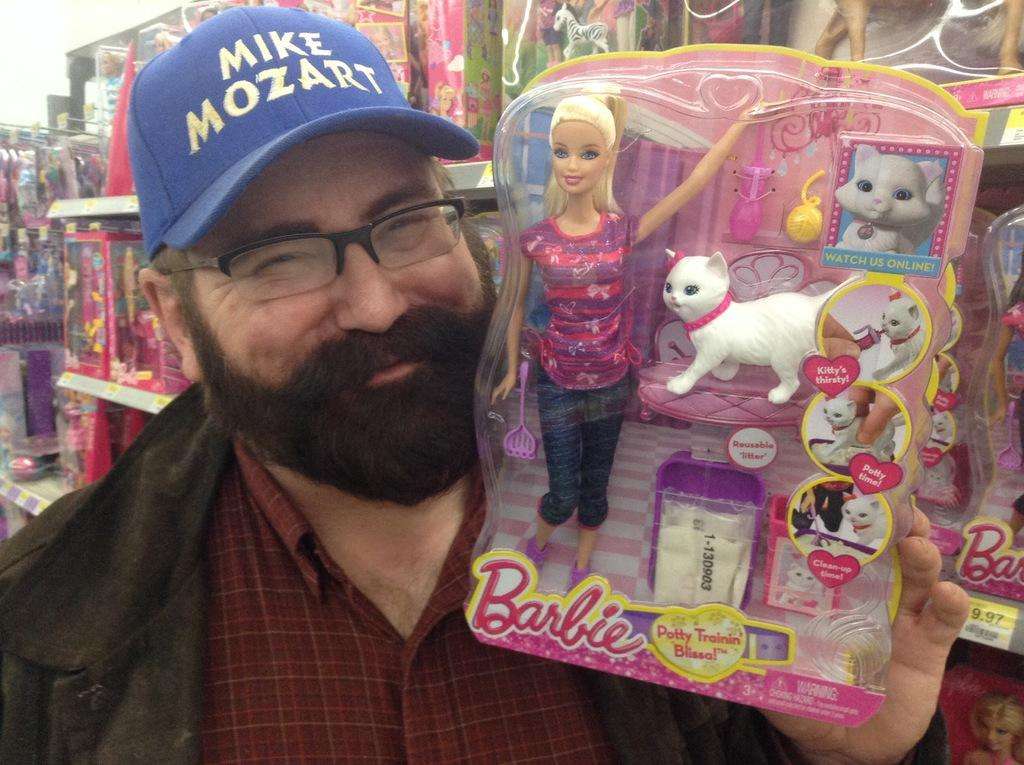Hat: (126, 4, 478, 274)
